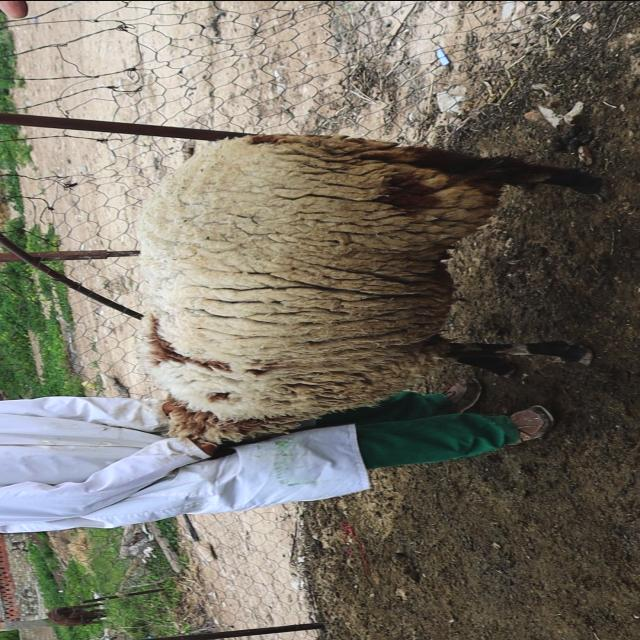Score_5: (139, 133, 601, 442)
